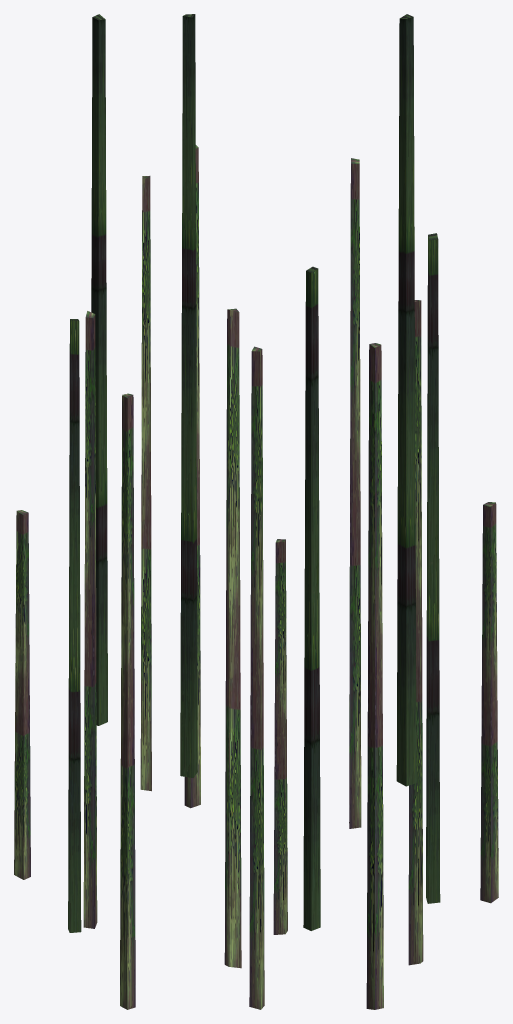
Rendered from Forest_1_VertGrass_2.gltf.
3 renders of one model, left to right at view 1: azimuth 90°, elevation 25°; view 2: azimuth 210°, elevation 25°; view 3: azimuth 270°, elevation 25°, orthographic. The views are drawn at different scales.
Parts seen in each view (by area): view 1: Forest_1_VertGrass_2; view 2: Forest_1_VertGrass_2; view 3: Forest_1_VertGrass_2.
Boxes of the visible parts, x1,y1,x2,y2 form: Forest_1_VertGrass_2: (14,14,151,1009); Forest_1_VertGrass_2: (180,14,320,1009); Forest_1_VertGrass_2: (349,14,498,1009).
Size of the model in its own units: 0.8349 by 6.57 by 0.8623.
Materials: 6 (6 with a texture image).
